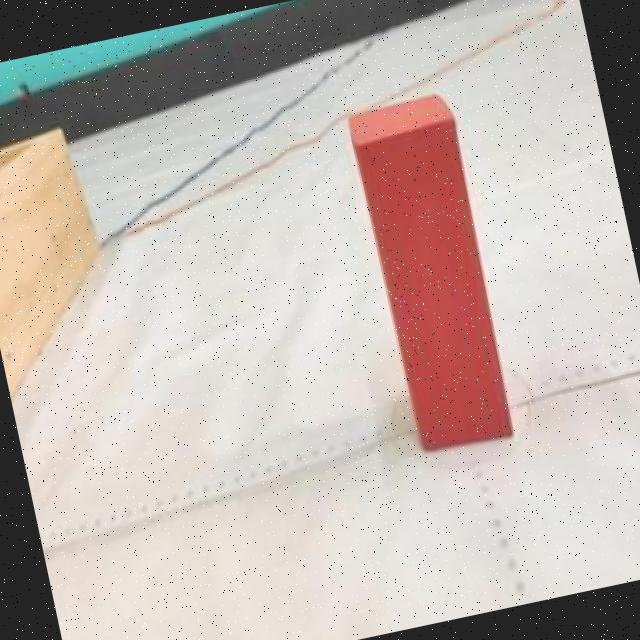redbox: (343, 86, 524, 457)
